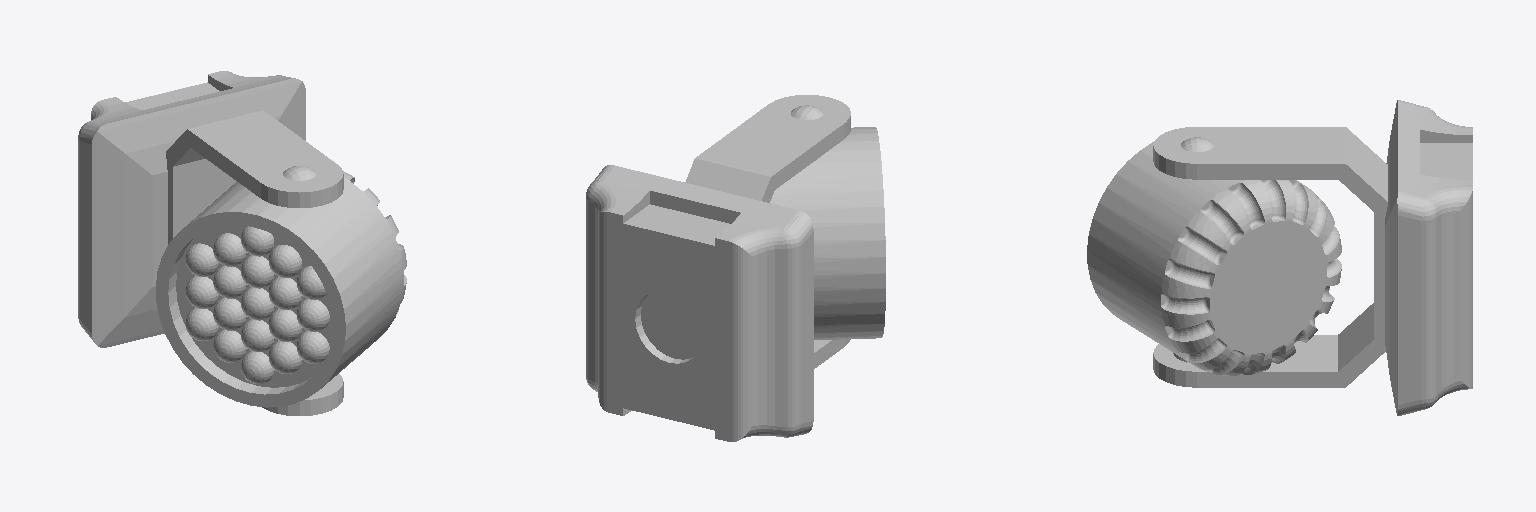
File: LED_Wash_Head_complete.obj
3 renders of one model, left to right at view 1: azimuth 30°, elevation 25°; view 2: azimuth 150°, elevation 25°; view 3: azimuth 270°, elevation 25°, orthographic.
Visible parts, largest first — view 1: Object.1, Object.2, Object.3; view 2: Object.2, Object.1, Object.3; view 3: Object.1, Object.2, Object.3.
Part boxes in pixels (bbox=[...]): Object.1: bbox=[156, 171, 406, 407]; Object.2: bbox=[78, 71, 305, 347]; Object.3: bbox=[166, 110, 343, 415]; Object.2: bbox=[586, 165, 813, 441]; Object.1: bbox=[770, 127, 885, 339]; Object.3: bbox=[685, 95, 850, 368]; Object.1: bbox=[1087, 142, 1341, 375]; Object.2: bbox=[1385, 100, 1472, 415]; Object.3: bbox=[1153, 127, 1387, 387].
Bounding box in the file's own units: 15.25 × 15.72 × 23.34.